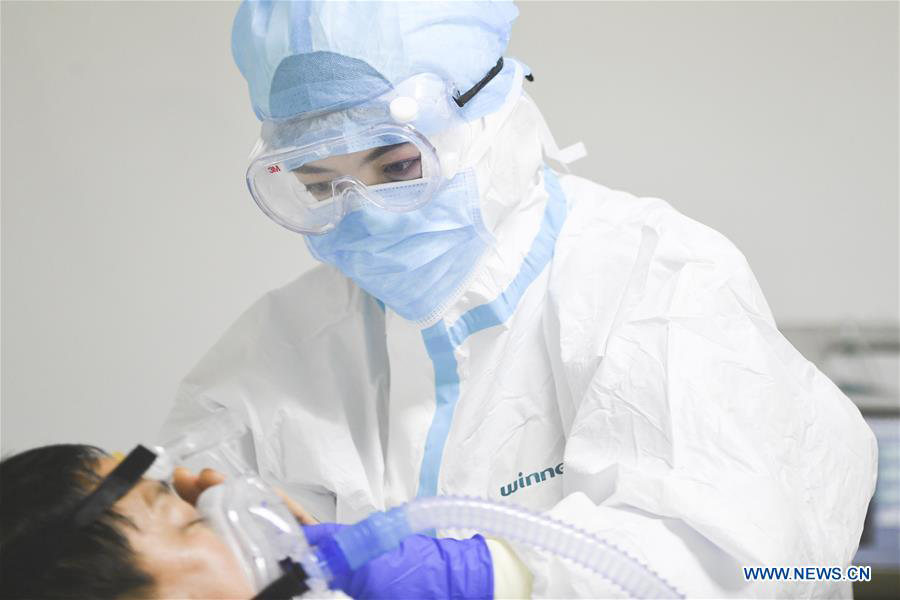Coverall: (167, 153, 871, 600)
Gloves: (305, 519, 495, 599)
Goggles: (234, 75, 476, 238)
with_mask: (270, 136, 493, 317)
